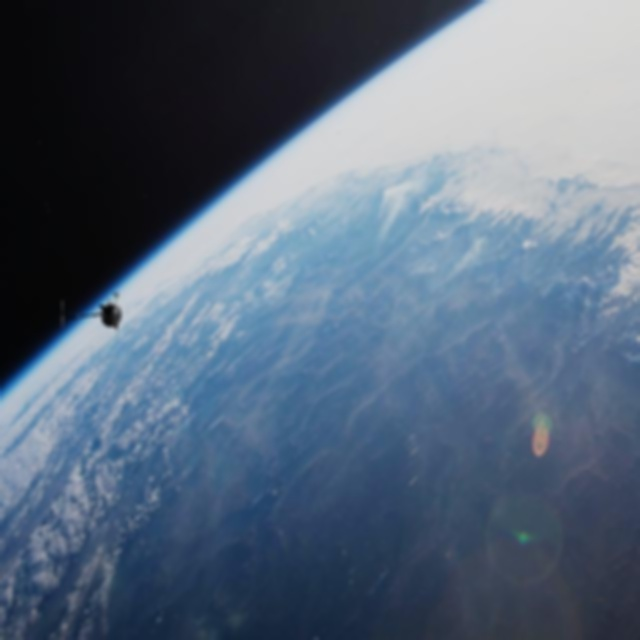medium_debris: (43, 282, 129, 342)
